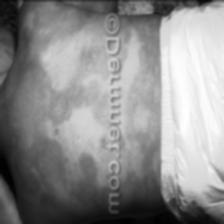Toxin: (26, 133, 83, 223)
